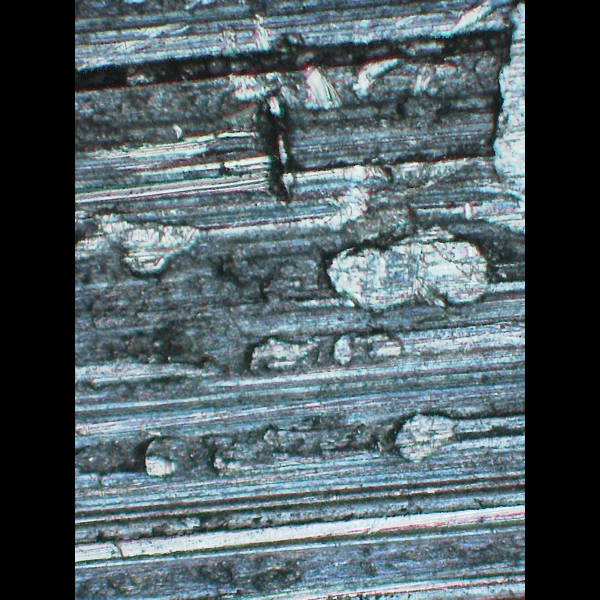d: (137, 417, 384, 485), (322, 221, 500, 315), (90, 206, 208, 277), (391, 411, 462, 469), (322, 326, 407, 374), (248, 326, 318, 379)
